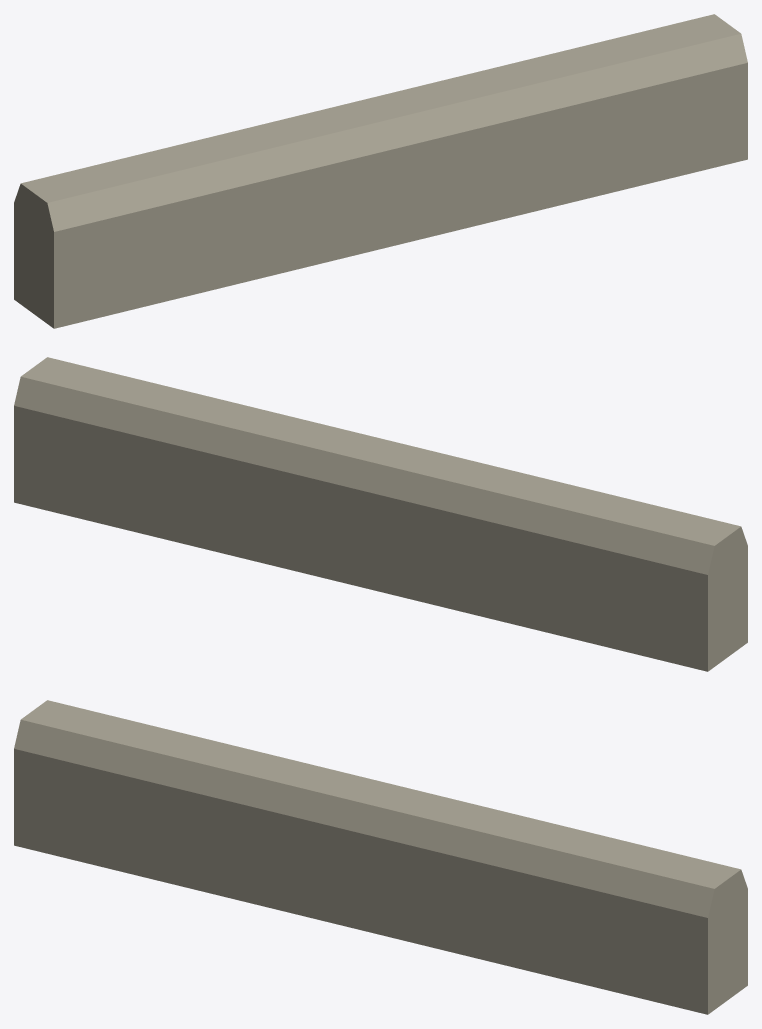
The model's file is victorian_curb_2.fbx.
The picture shows the model from 3 angles, top to bottom: view 1: azimuth 30°, elevation 25°; view 2: azimuth 150°, elevation 25°; view 3: azimuth 330°, elevation 25°; orthographic projection.
Visible parts, largest first — view 1: Cube.268; view 2: Cube.268; view 3: Cube.268.
Boxes of the visible parts, box(x1,y1,x2,y2) form: Cube.268: box(14, 14, 747, 328); Cube.268: box(14, 357, 747, 671); Cube.268: box(14, 700, 747, 1014).
Bounding box in the file's own units: 300 × 50 × 30.
